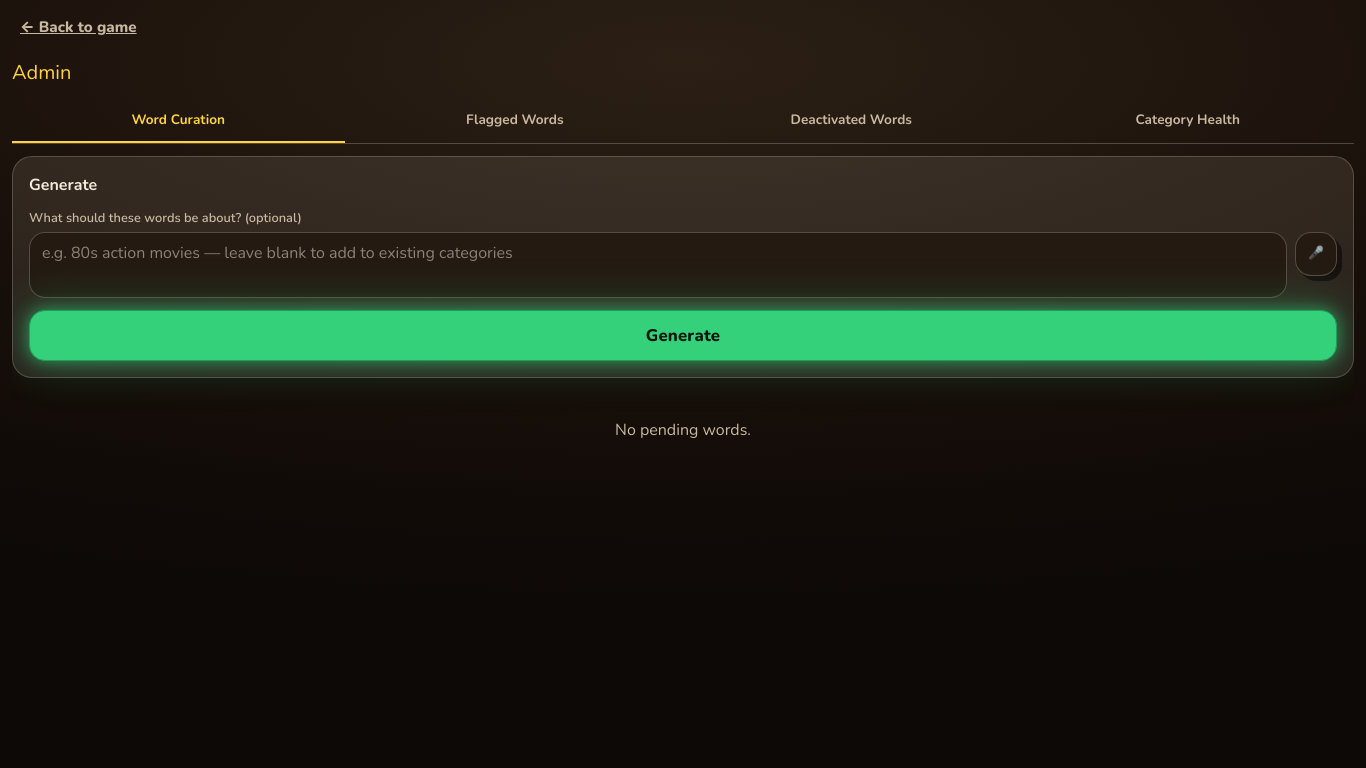
it: AdminScreen › shows a proposed brand-new category alongside its words
Expected: the heading "Generate" is shown, top-left (29, 174), bottom-right (97, 196)
Click the button "Generate" at (683, 336), box top-left (29, 310), bottom-right (1337, 361)
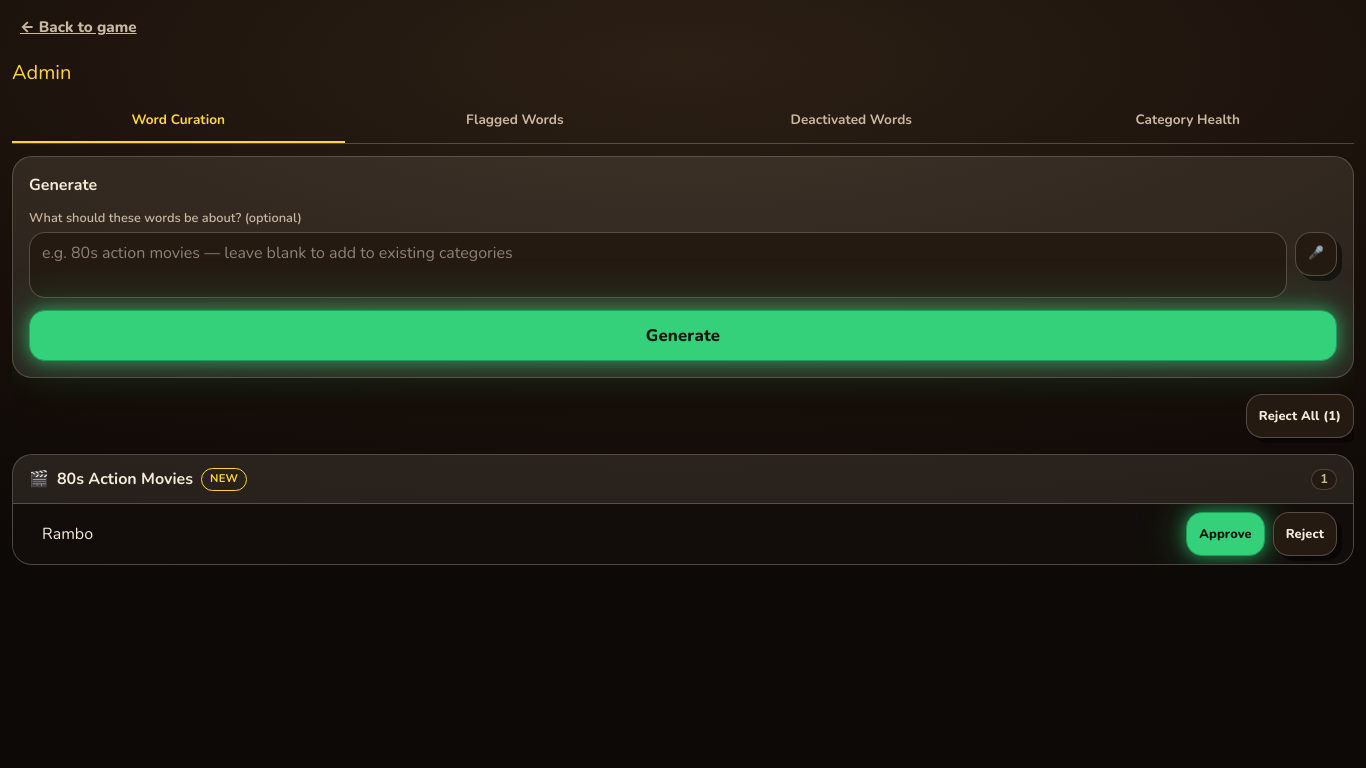
Result: the field showing "Rambo" is shown at top-left (29, 512), bottom-right (1178, 556)
Result: the text "80s Action Movies" is shown at top-left (57, 467), bottom-right (193, 491)
